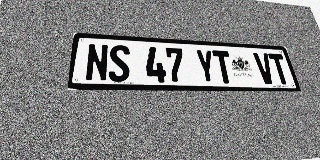4: (145, 47, 167, 83)
7: (164, 48, 186, 83)
N: (85, 43, 109, 82)
S: (108, 45, 130, 82)
T: (212, 50, 235, 84), (268, 53, 292, 84)
V: (253, 53, 276, 84)
Y: (195, 49, 217, 83)
